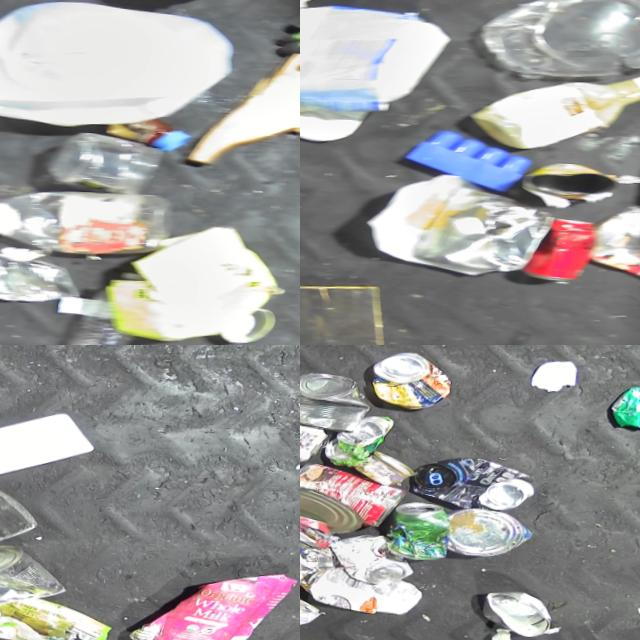can: (300, 457, 415, 526), (417, 450, 545, 509), (0, 538, 80, 606), (527, 211, 606, 279), (373, 347, 459, 408), (0, 239, 84, 301), (300, 366, 378, 432), (335, 528, 426, 582), (453, 502, 543, 555), (527, 155, 625, 198), (392, 495, 461, 556), (491, 584, 569, 634), (300, 478, 372, 532), (328, 411, 401, 464), (359, 445, 423, 485), (300, 407, 335, 462), (613, 377, 640, 426), (300, 586, 333, 625)
milk_jug: (0, 0, 235, 122), (300, 0, 460, 107), (0, 402, 103, 487)
non_white_jug: (187, 41, 300, 169)
plastic_bottle: (0, 180, 182, 256), (68, 277, 157, 345)
